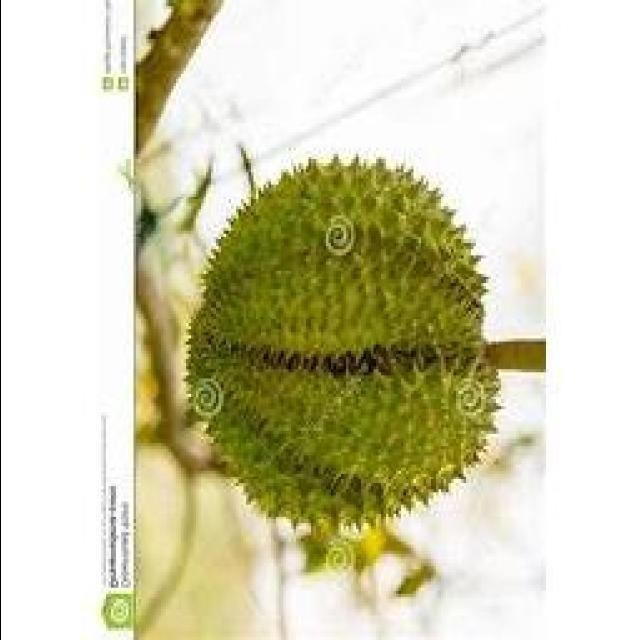agrume: (175, 136, 510, 548)
